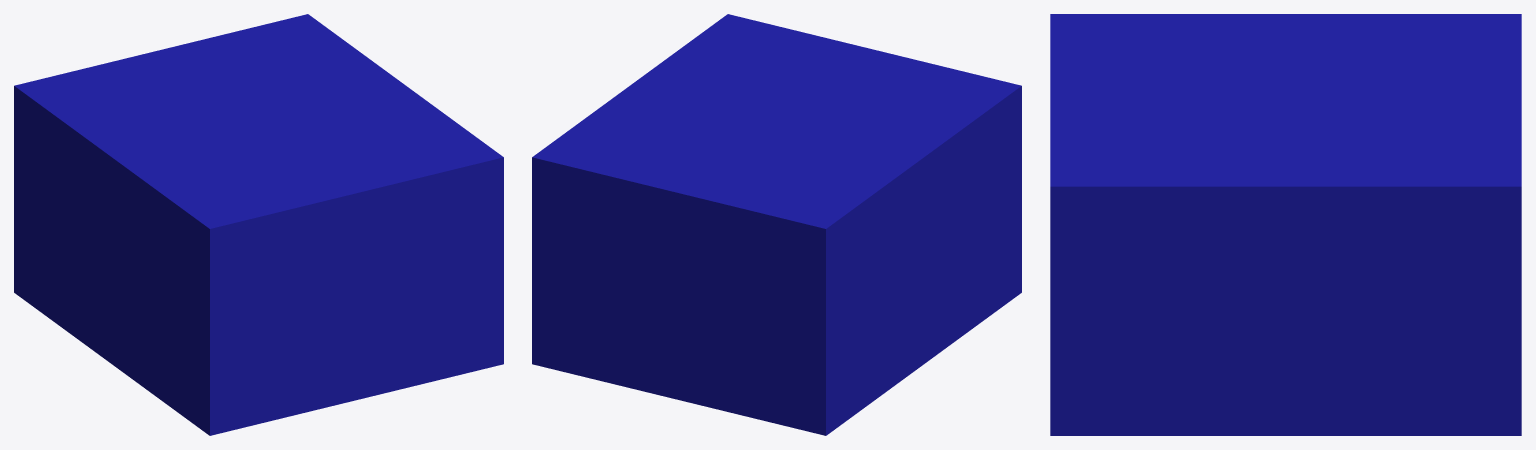
The model's file is shed_1_broken.DAE.
3 views of the same model, side by side, from view 1: azimuth 30°, elevation 25°; view 2: azimuth 150°, elevation 25°; view 3: azimuth 270°, elevation 25° (orthographic). The views are drawn at different scales.
Parts seen in each view (by area): view 1: bounds; view 2: bounds; view 3: bounds.
Boxes of the visible parts, x1=… form: bounds: x1=14, y1=14, x2=503, y2=435; bounds: x1=532, y1=14, x2=1021, y2=435; bounds: x1=1050, y1=14, x2=1521, y2=435.
Bounding box in the file's own units: 9.13 × 10.53 × 6.14.
